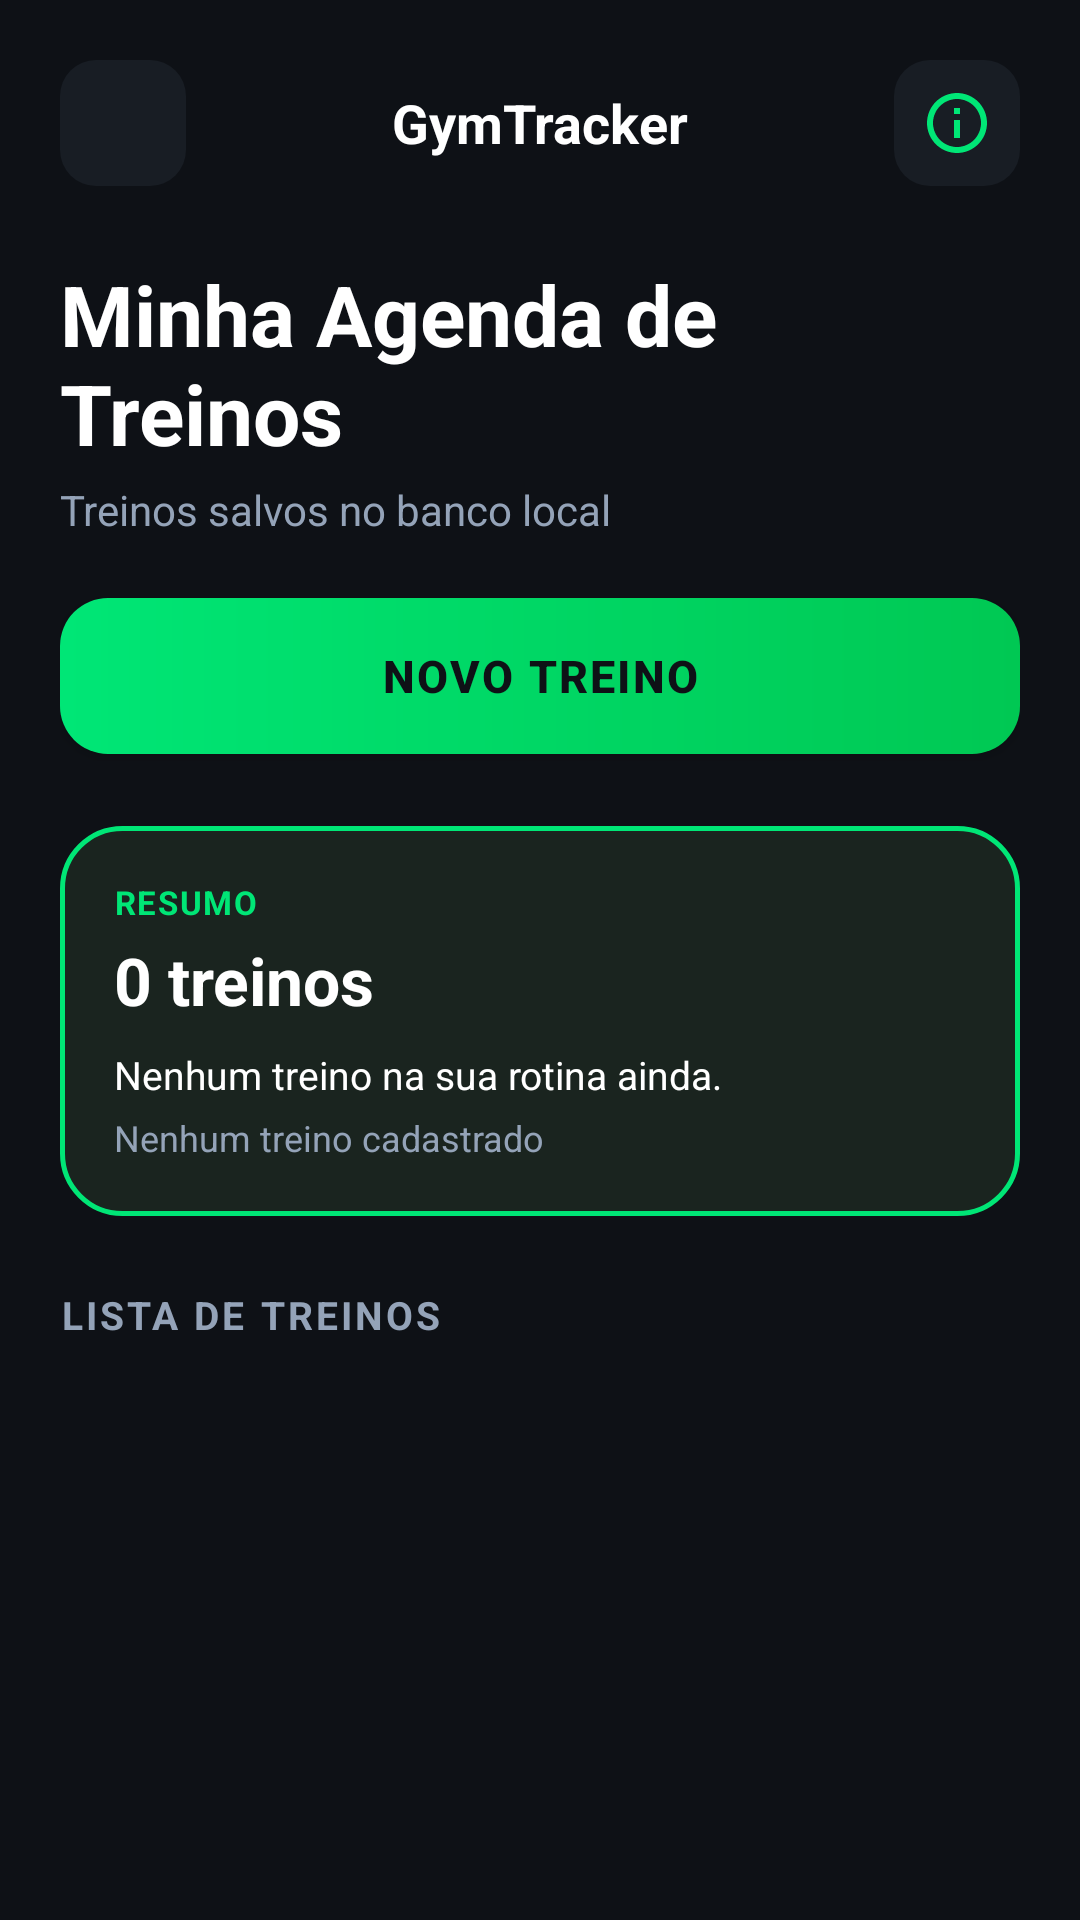

Icon click points for this 1080 × 1920 phone screenshot, format [x,y]:
Sobre o App: [957,123]
